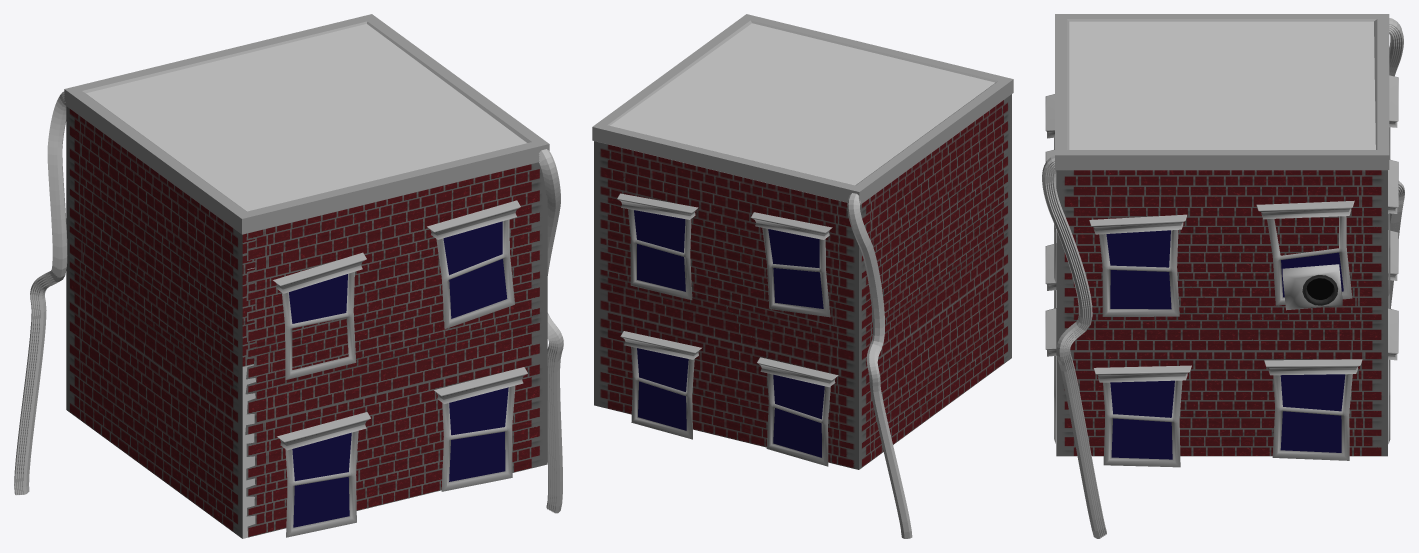
File: skyfall_level.glb
3 renders of one model, left to right at view 1: azimuth 30°, elevation 25°; view 2: azimuth 150°, elevation 25°; view 3: azimuth 270°, elevation 25°, orthographic. The views are drawn at different scales.
Visible parts, largest first — view 1: Cube, Cube.001, Plane.002, BezierCurve.001, BezierCurve; view 2: Cube, Plane.002, BezierCurve.001; view 3: Cube, Plane.002, Plane.005, BezierCurve, ac, BezierCurve.001.
Part boxes in pixels (<box>): Cube: <box>64,14,549,538</box>; Cube.001: <box>245,162,547,537</box>; Plane.002: <box>247,200,527,537</box>; BezierCurve.001: <box>14,91,67,495</box>; BezierCurve: <box>539,149,563,513</box>; Cube: <box>592,14,1013,469</box>; Plane.002: <box>617,193,838,466</box>; BezierCurve.001: <box>847,193,912,538</box>; Cube: <box>1055,14,1389,456</box>; Plane.002: <box>1045,75,1398,467</box>; Plane.005: <box>1095,366,1190,467</box>; BezierCurve: <box>1042,155,1106,538</box>; ac: <box>1282,264,1342,310</box>; BezierCurve.001: <box>1388,18,1404,308</box>.
Bounding box in the file's own units: 19.97 × 18.81 × 16.79.
8 materials, 1 textured.
